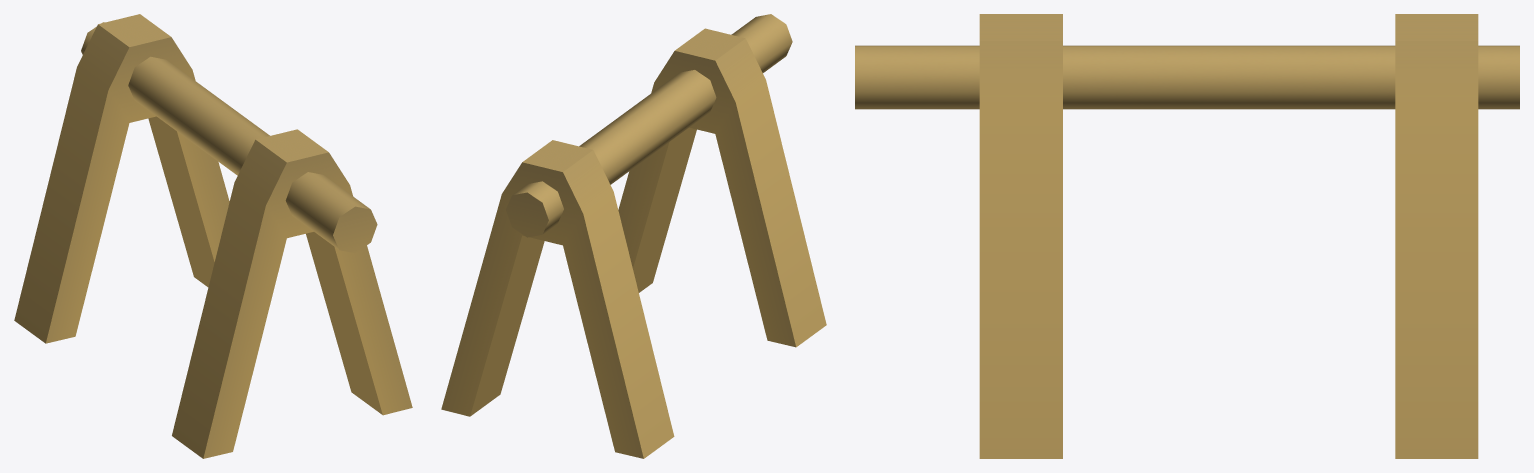
Rendered from waterwheel_base.glb.
3 views of the same model, side by side, from view 1: azimuth 30°, elevation 25°; view 2: azimuth 150°, elevation 25°; view 3: azimuth 270°, elevation 25° (orthographic). The views are drawn at different scales.
Visible parts, largest first — view 1: Waterwheel_base; view 2: Waterwheel_base; view 3: Waterwheel_base.
Part boxes in pixels (x1=…): Waterwheel_base: x1=14, y1=14, x2=412, y2=458; Waterwheel_base: x1=441, y1=14, x2=826, y2=458; Waterwheel_base: x1=855, y1=14, x2=1519, y2=458.
Size of the model in its own units: 1.92 by 2.42 by 4.
1 material, 1 textured.
